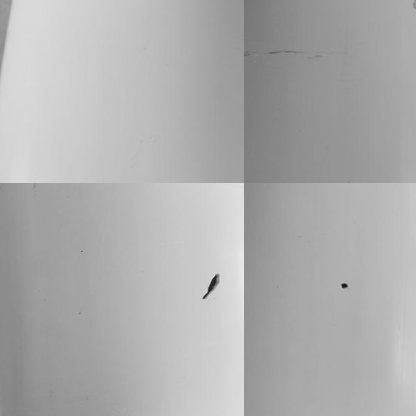kongdong: (200, 272, 228, 301)
